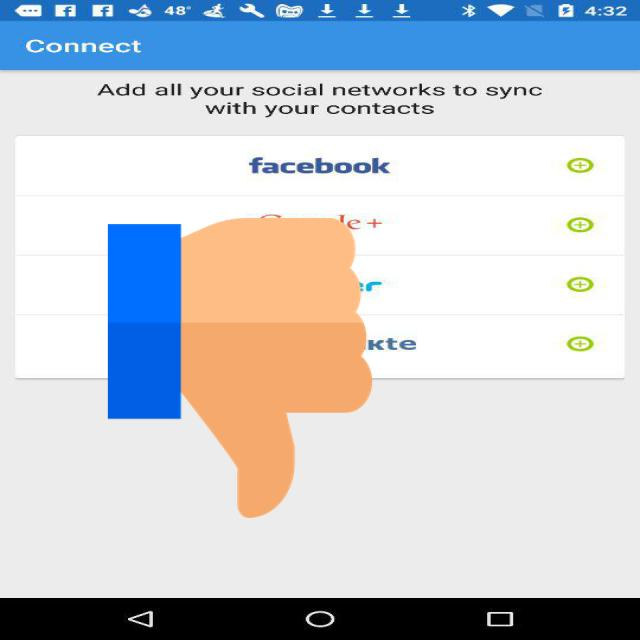obstruction: (108, 211, 372, 525)
